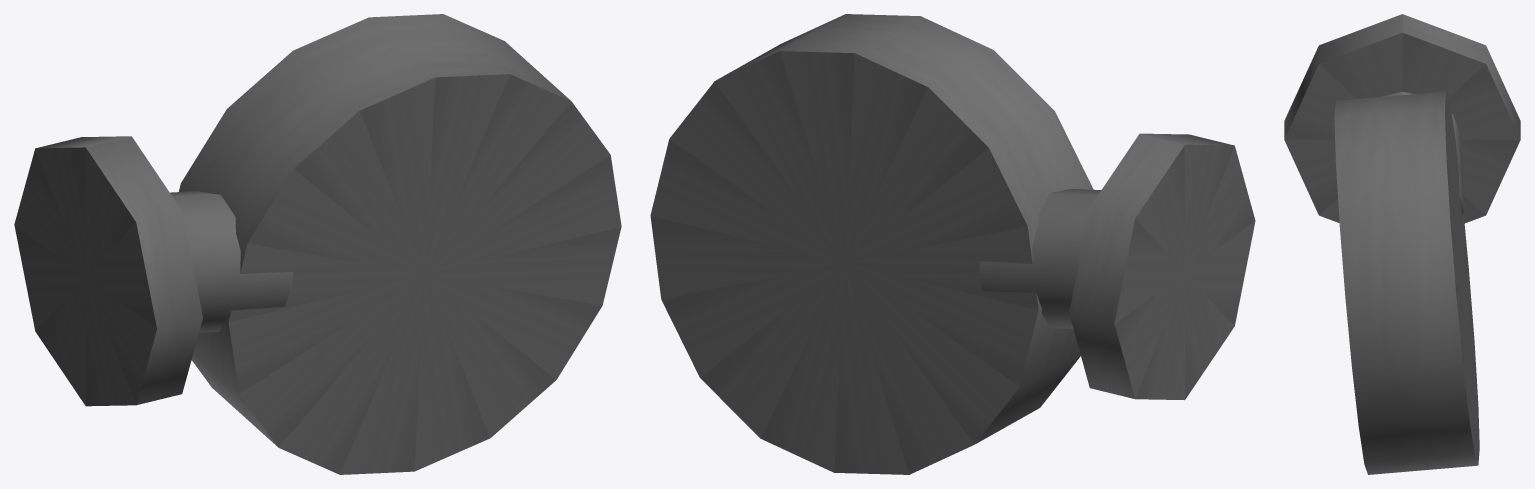
The model's file is mastarmcurve_8x2_c8_west.obj.
The picture shows the model from 3 angles, left to right: view 1: azimuth 30°, elevation 25°; view 2: azimuth 150°, elevation 25°; view 3: azimuth 270°, elevation 25°; orthographic projection. The views are drawn at different scales.
Parts seen in each view (by area): view 1: mastarm_8x2_c8_west; view 2: mastarm_8x2_c8_west; view 3: mastarm_8x2_c8_west.
Boxes of the visible parts, x1,y1,x2,y2 form: mastarm_8x2_c8_west: [14, 14, 621, 474]; mastarm_8x2_c8_west: [650, 14, 1255, 474]; mastarm_8x2_c8_west: [1284, 14, 1520, 474].
Size of the model in its own units: 0.8173 by 0.6505 by 0.4.
